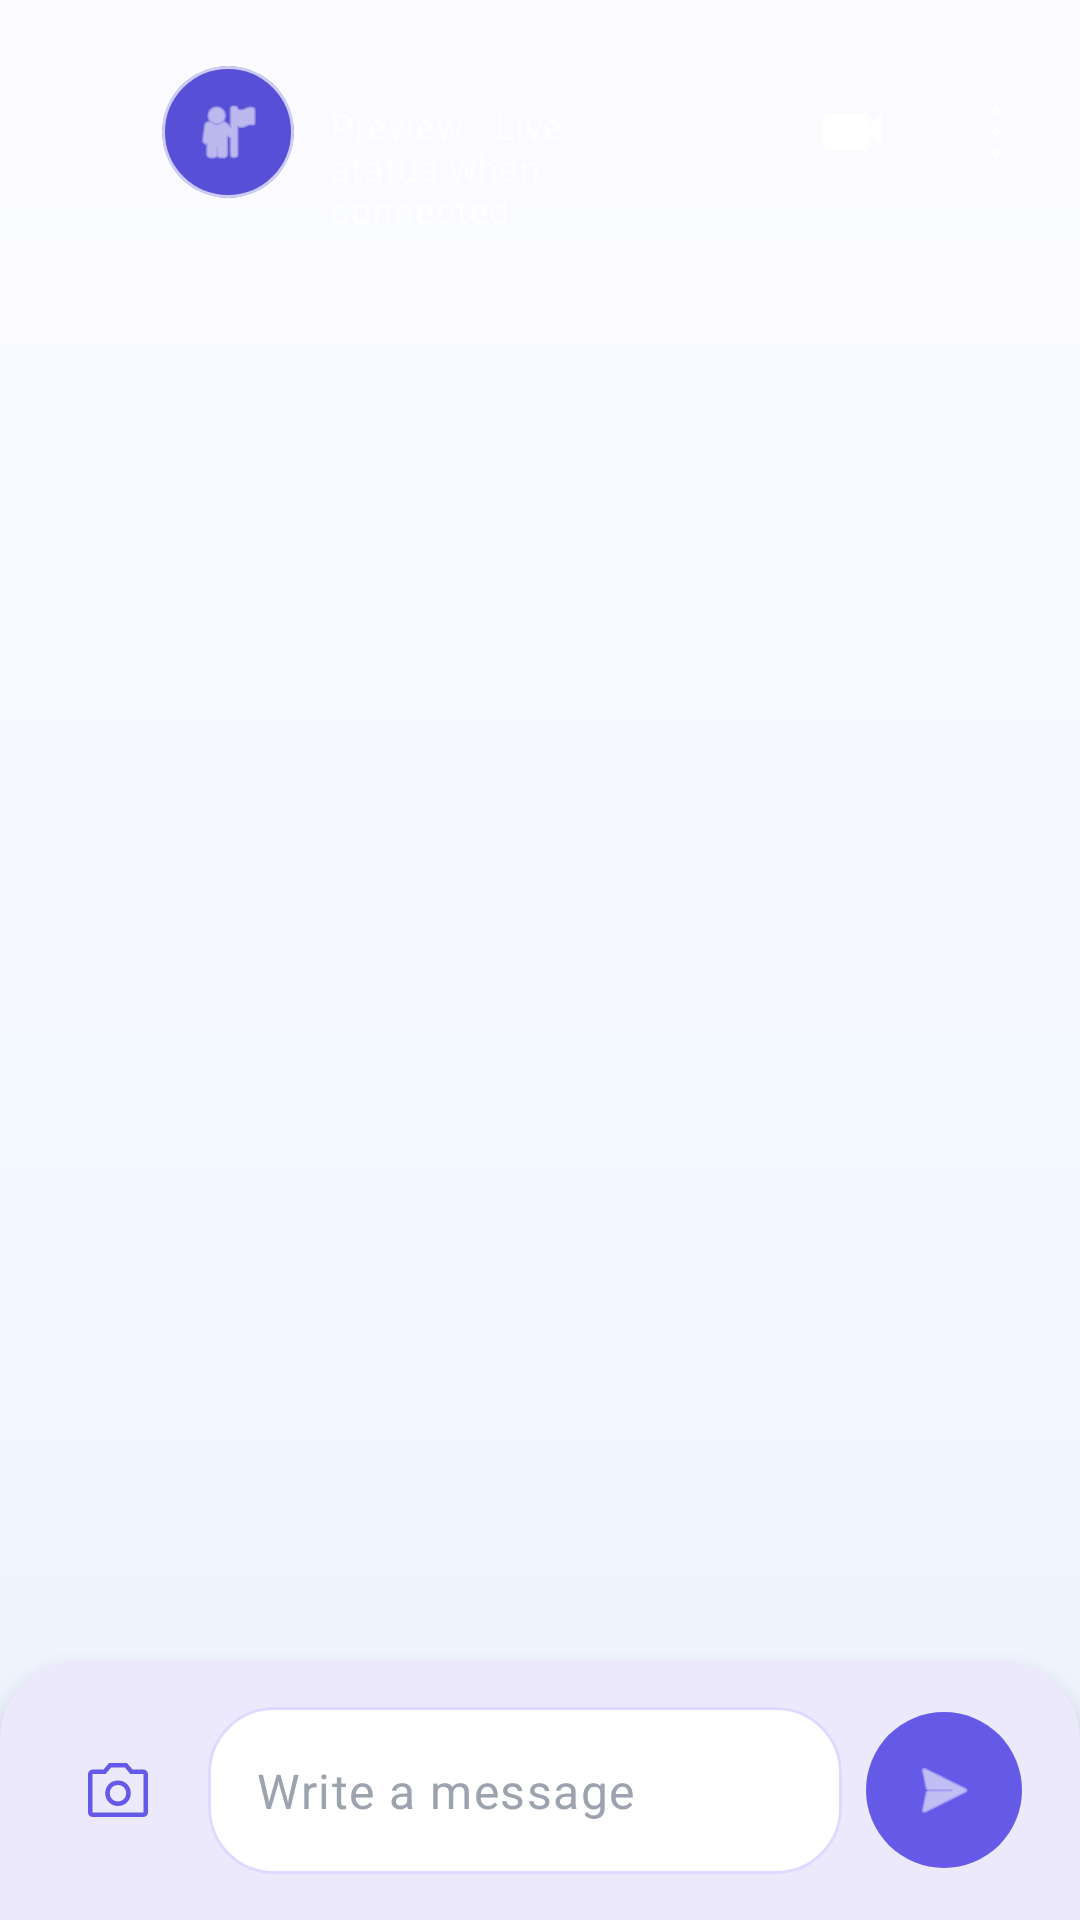

Icons on this 1080px x 1920px Android screen, each with its box as (x1, y1, x2, y2):
Add photo: (88, 1763, 148, 1817)
Send message: (866, 1712, 1022, 1868)
